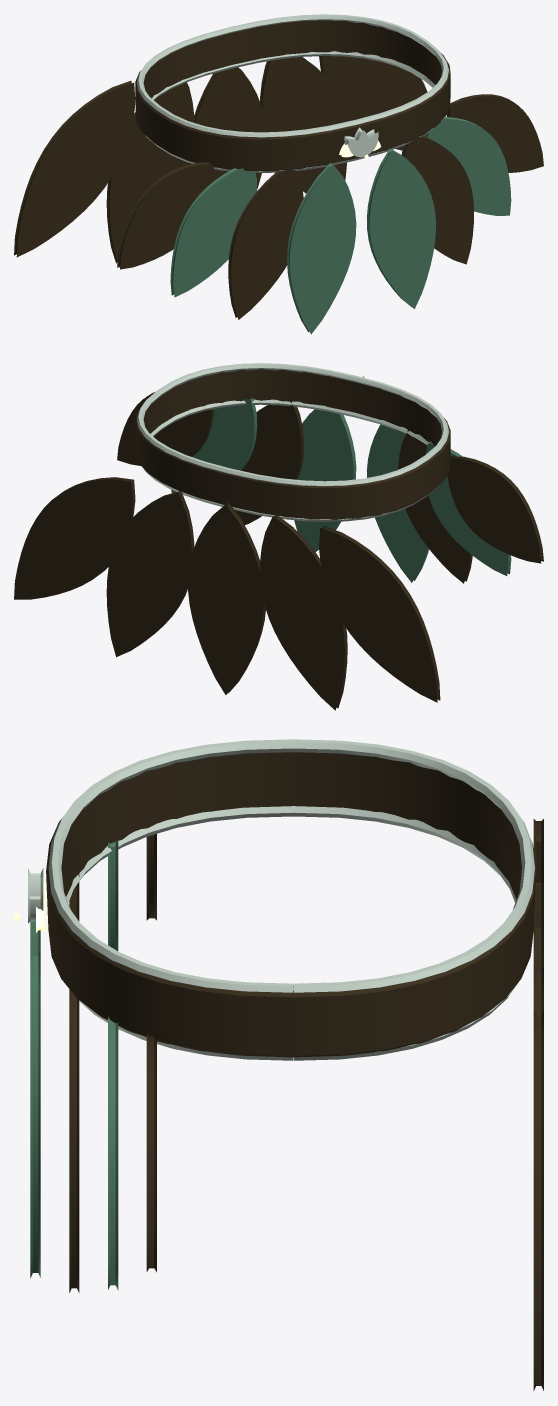
File: boss_grievance_of_the_fairy_inner_garment.glb
The picture shows the model from 3 angles, top to bottom: view 1: azimuth 30°, elevation 25°; view 2: azimuth 150°, elevation 25°; view 3: azimuth 270°, elevation 25°; orthographic projection. The views are drawn at different scales.
Parts seen in each view (by area): view 1: boss_grievance_of_the_fairy_inner_garment, AT_thigh_R, AT_thigh_L; view 2: boss_grievance_of_the_fairy_inner_garment, AT_thigh_R, AT_thigh_L; view 3: boss_grievance_of_the_fairy_inner_garment, AT_thigh_L, AT_thigh_R.
Boxes of the visible parts, x1,y1,x2,y2 form: boss_grievance_of_the_fairy_inner_garment: (14, 14, 450, 263); AT_thigh_R: (117, 162, 356, 334); AT_thigh_L: (366, 94, 543, 308); boss_grievance_of_the_fairy_inner_garment: (14, 363, 450, 710); AT_thigh_R: (366, 424, 543, 583); AT_thigh_L: (117, 392, 356, 552); boss_grievance_of_the_fairy_inner_garment: (14, 739, 543, 1390); AT_thigh_L: (30, 950, 156, 1292); AT_thigh_R: (30, 834, 156, 954).
Bounding box in the file's own units: 0.7108 × 0.3577 × 0.4108.
